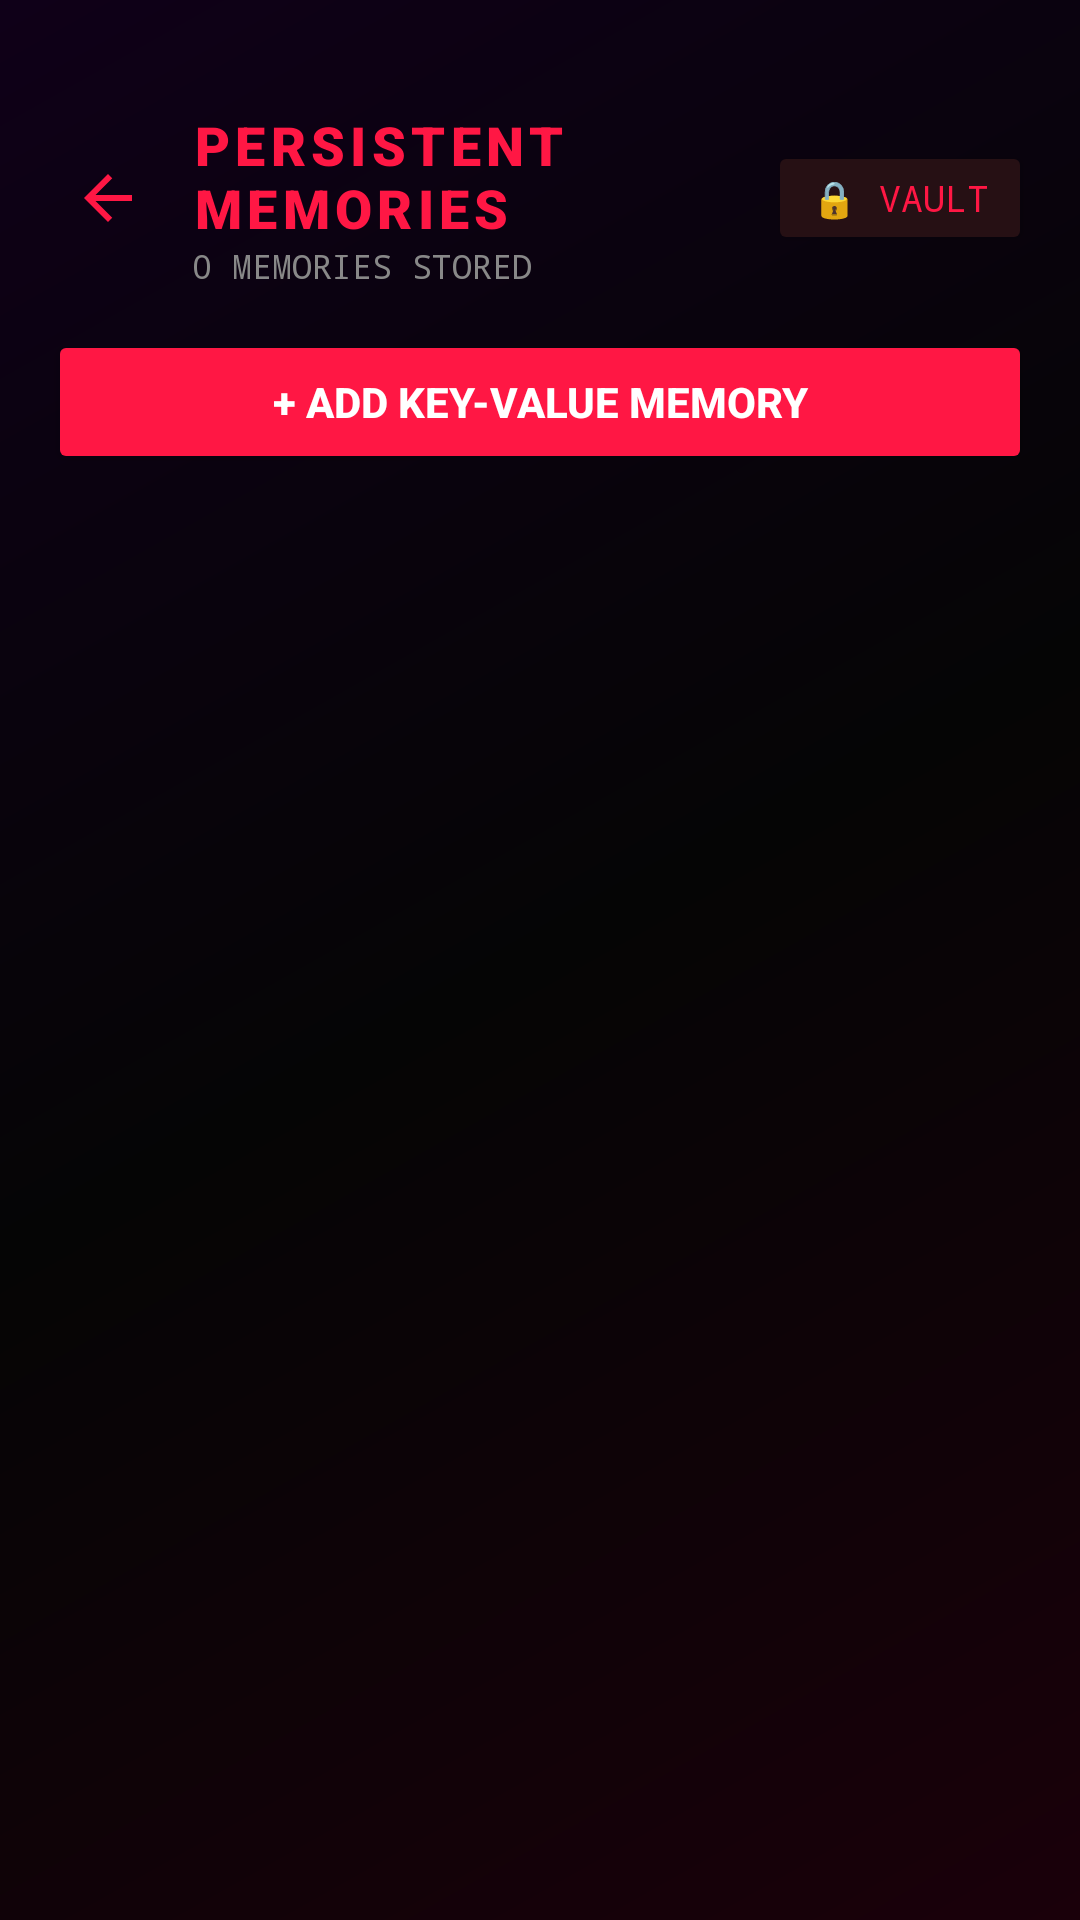

Icon bounding boxes for this 1080px x 1920px phone screenshot, format [x1, y1, x2, y2]:
Back: [84, 174, 132, 222]
